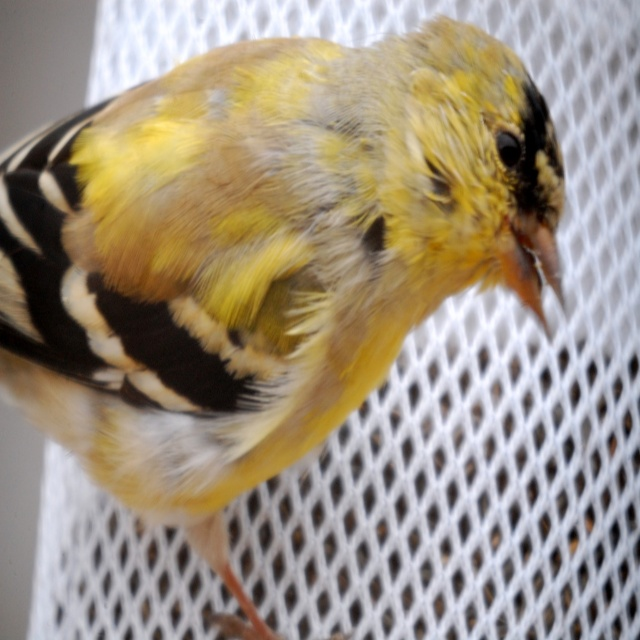Canary: (0, 11, 570, 639)
